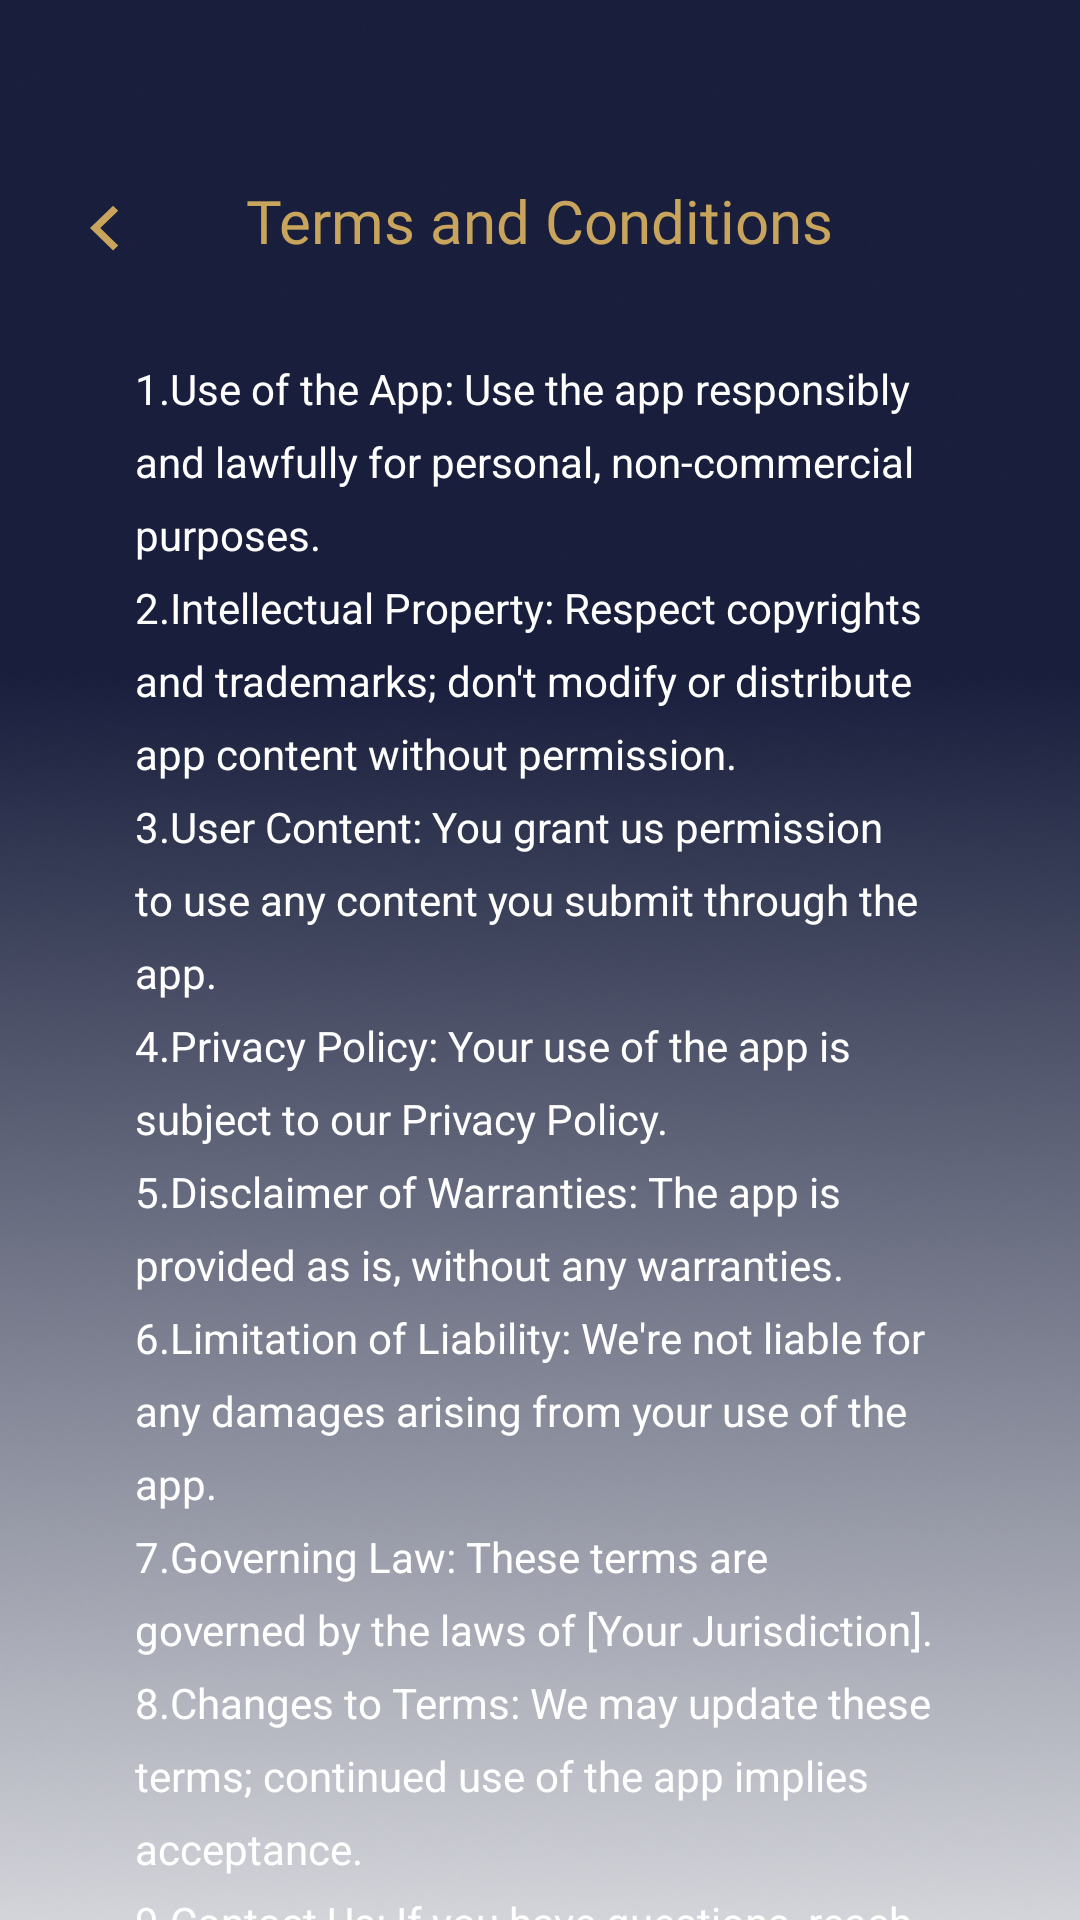

Screen size 1080x1920. Icon name, then its center in pixels as (x,y):
back: (104,228)
